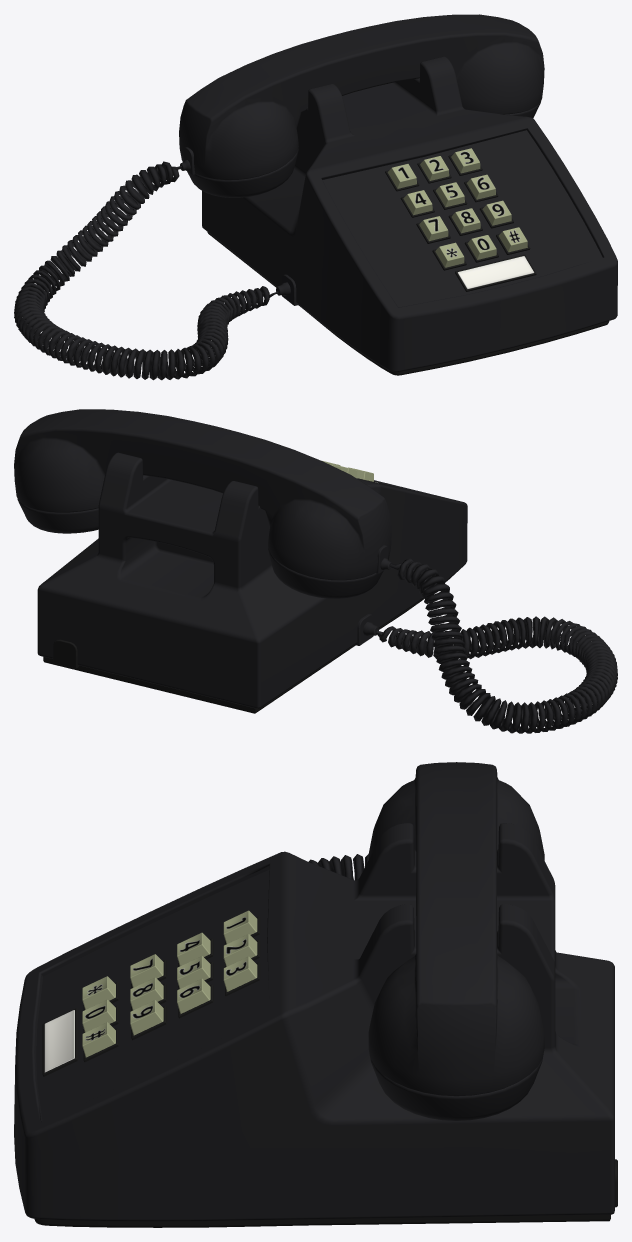
The model's file is phone.glb.
3 renders of one model, top to bottom at view 1: azimuth 30°, elevation 25°; view 2: azimuth 150°, elevation 25°; view 3: azimuth 270°, elevation 25°, orthographic. The views are drawn at different scales.
Parts seen in each view (by area): view 1: Cube, Cube.001, BezierCircle, Cube.011, Cube.010, Cube.017, Cube.007, Cube.008, Cube.016, Cube.004, Cube.015, Cube.003 (+4 smaller); view 2: Cube, Cube.001, BezierCircle, Cube.014, Cube.012; view 3: Cube, Cube.001, Cube.011, Cube.008, Cube.005, Cube.015, Cube.002, BezierCircle, Cube.010, Cube.007, Cube.017, Cube.004 (+4 smaller).
Boxes of the visible parts, left/top/right/bottom form: Cube: left=202, top=56, right=617, bottom=375; Cube.001: left=179, top=14, right=544, bottom=197; BezierCircle: left=14, top=161, right=278, bottom=380; Cube.011: left=455, top=254, right=536, bottom=291; Cube.010: left=432, top=242, right=466, bottom=270; Cube.017: left=385, top=164, right=419, bottom=191; Cube.007: left=416, top=216, right=450, bottom=243; Cube.008: left=496, top=227, right=530, bottom=254; Cube.016: left=417, top=156, right=451, bottom=183; Cube.004: left=400, top=190, right=434, bottom=217; Cube.015: left=448, top=148, right=482, bottom=175; Cube.003: left=433, top=182, right=467, bottom=209; Cube: left=37, top=452, right=467, bottom=713; Cube.001: left=14, top=409, right=391, bottom=598; BezierCircle: left=376, top=558, right=617, bottom=733; Cube.014: left=53, top=639, right=78, bottom=668; Cube.012: left=354, top=614, right=378, bottom=645; Cube: left=14, top=823, right=614, bottom=1227; Cube.001: left=368, top=762, right=544, bottom=1120; Cube.011: left=42, top=1008, right=78, bottom=1076; Cube.008: left=82, top=1022, right=119, bottom=1061; Cube.005: left=130, top=1000, right=167, bottom=1040; Cube.015: left=223, top=956, right=260, bottom=995; Cube.002: left=177, top=978, right=213, bottom=1018; BezierCircle: left=308, top=854, right=368, bottom=880; Cube.010: left=82, top=976, right=119, bottom=1010; Cube.007: left=130, top=954, right=167, bottom=988; Cube.017: left=223, top=910, right=260, bottom=944; Cube.004: left=177, top=932, right=213, bottom=966.
Size of the model in its own units: 42.49 by 15.93 by 28.14.
Materials: 4 (1 with a texture image).
